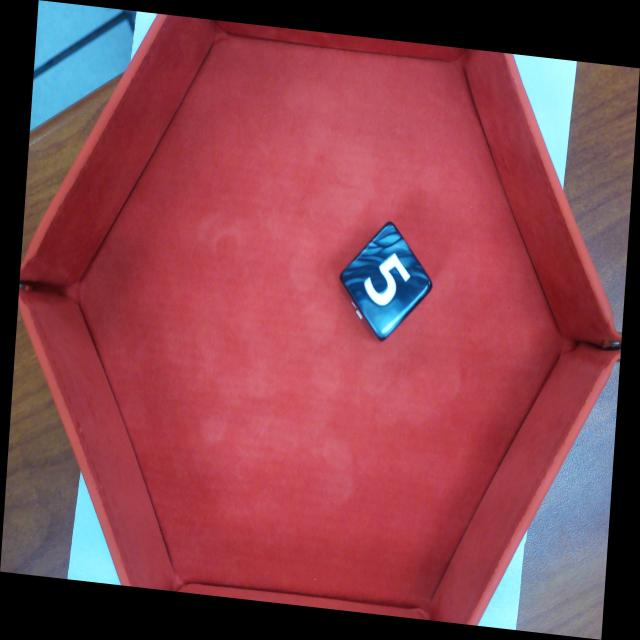dice: (340, 221, 435, 339)
